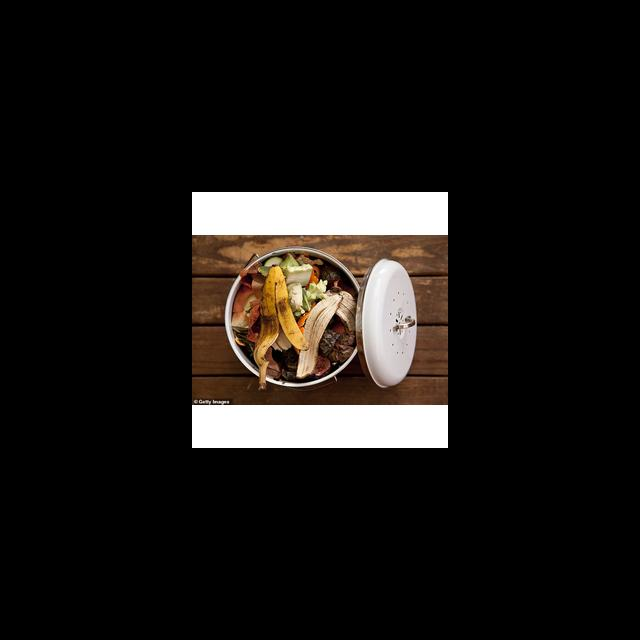food_waste: (232, 256, 356, 370)
